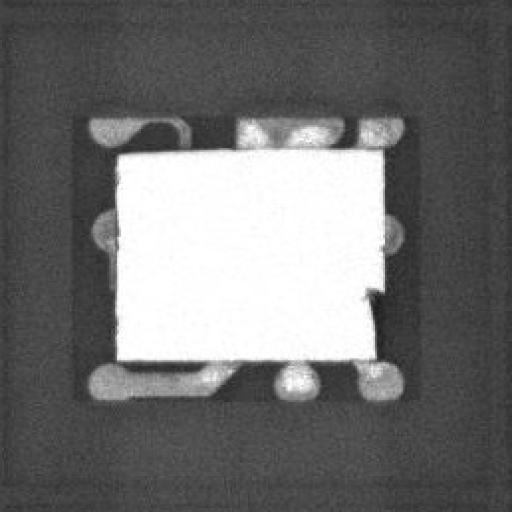DIE_BROKEN: (361, 281, 385, 360)
